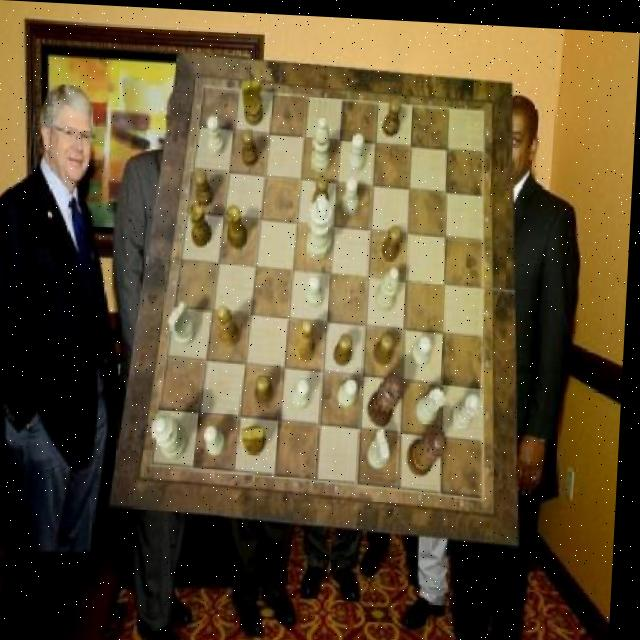bishop: (219, 303, 244, 346), (298, 315, 320, 359)
black-bishop: (370, 368, 409, 424)
black-king: (240, 75, 265, 123), (245, 422, 271, 452)
black-knight: (195, 168, 216, 205), (383, 221, 404, 257), (241, 125, 260, 164), (384, 94, 403, 133), (375, 330, 396, 363), (336, 331, 356, 364), (315, 172, 332, 210), (259, 371, 278, 403)
black-pawn: (411, 422, 453, 473)
black-queen: (226, 202, 251, 247), (190, 200, 215, 245)
black-rook: (312, 114, 333, 171), (377, 263, 402, 308)
white-bishop: (309, 190, 336, 256)
white-king: (170, 299, 199, 345), (371, 423, 396, 464)
white-knight: (206, 113, 226, 154), (207, 423, 231, 455), (348, 128, 366, 169), (413, 331, 435, 363), (308, 270, 327, 305), (344, 173, 361, 211), (296, 374, 315, 406), (341, 375, 361, 404)
white-pawn: (154, 410, 193, 459)
white-queen: (453, 388, 485, 427), (418, 382, 448, 421)
